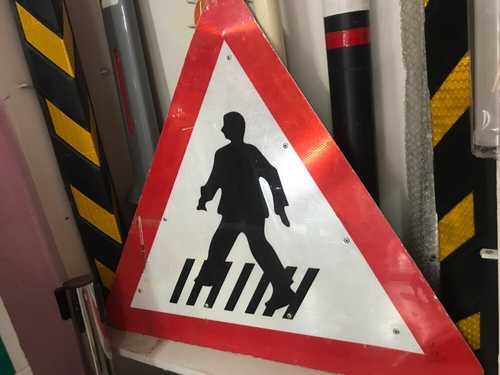pedestrian: (121, 11, 374, 364)
